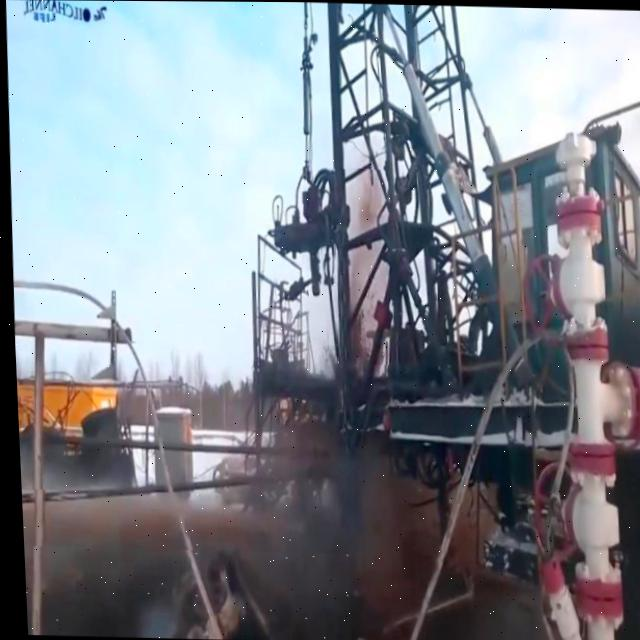spillage: (19, 546, 344, 640), (17, 489, 302, 555), (330, 168, 386, 364)
